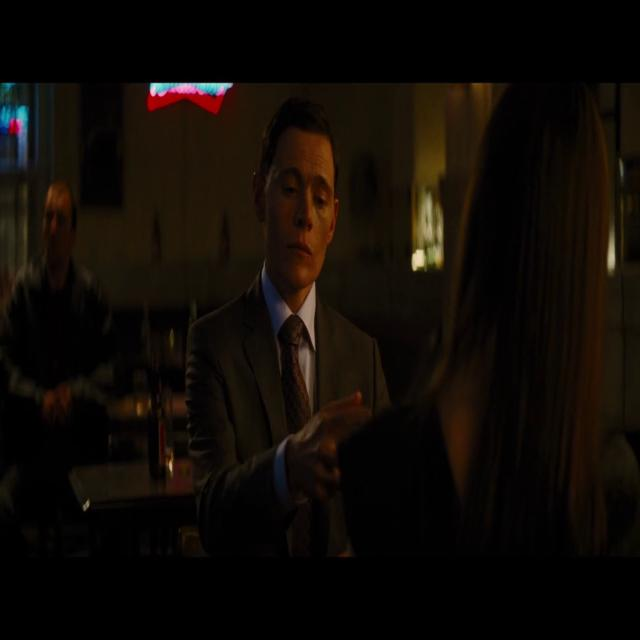Bottle: (134, 365, 171, 498)
People: (436, 55, 612, 635), (255, 99, 349, 546), (9, 126, 80, 396)
Table: (65, 450, 213, 584)
